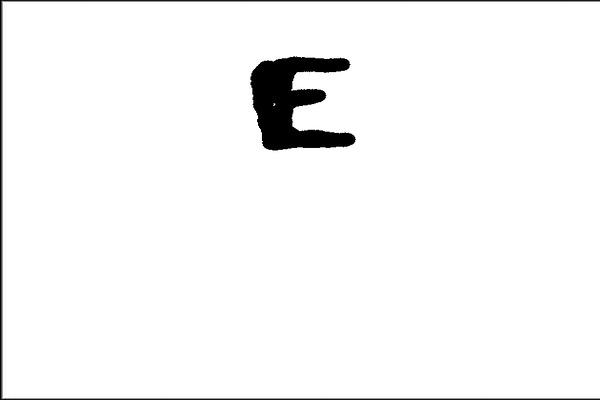E: (245, 53, 362, 153)
